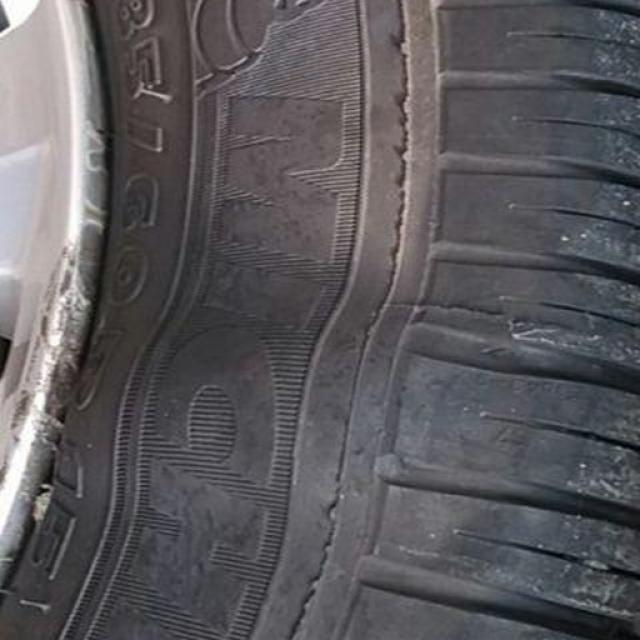Bulge: (78, 288, 410, 540)
